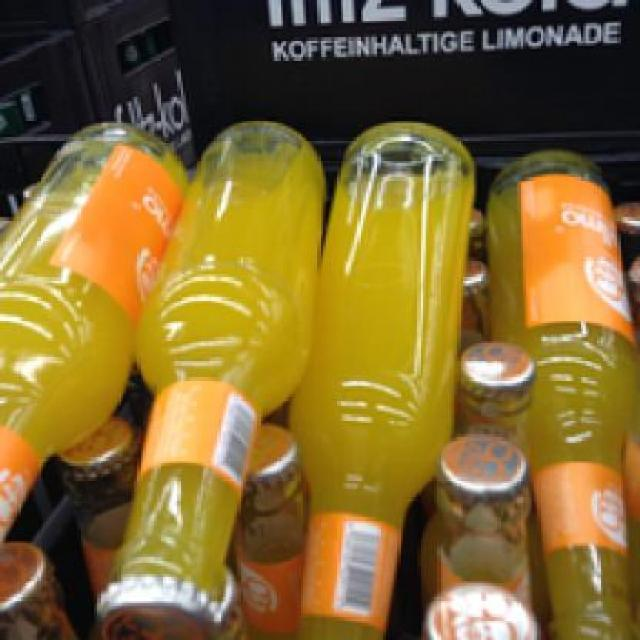Soda: (97, 112, 323, 638), (292, 114, 478, 637), (2, 117, 178, 563), (480, 145, 634, 638)
